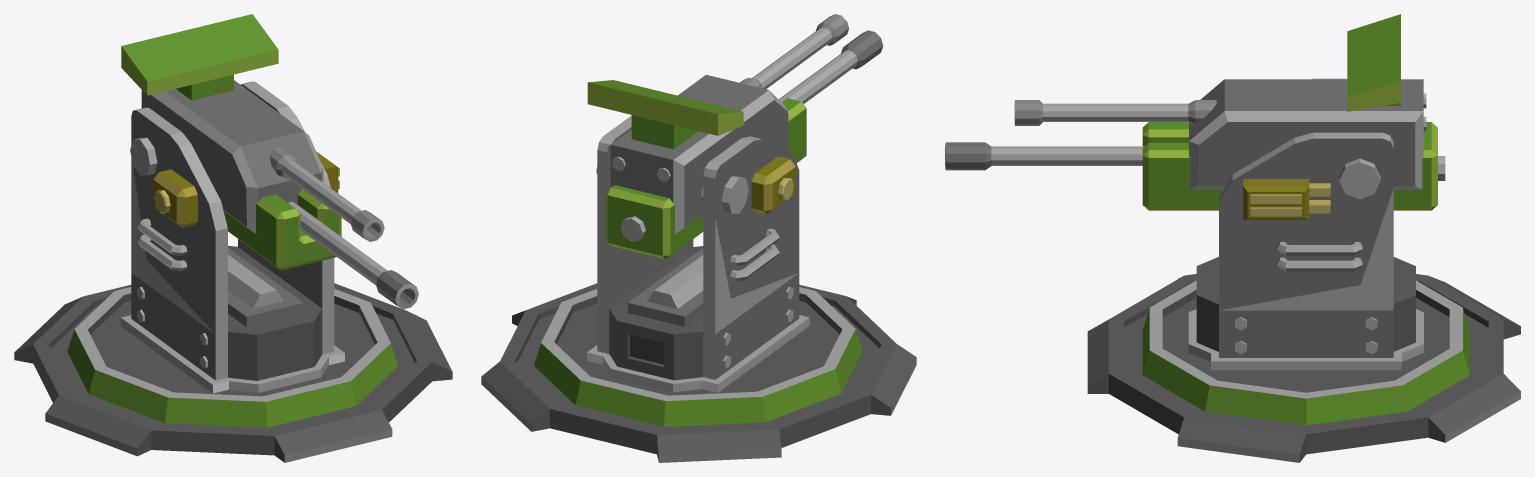
File: tower_machinegun_green_2.fbx
The picture shows the model from 3 angles, left to right: view 1: azimuth 30°, elevation 25°; view 2: azimuth 150°, elevation 25°; view 3: azimuth 270°, elevation 25°; orthographic projection. The views are drawn at different scales.
Parts seen in each view (by area): view 1: top_machinegun_green_2, tower_machinegun_green_2; view 2: top_machinegun_green_2, tower_machinegun_green_2; view 3: top_machinegun_green_2, tower_machinegun_green_2.
Boxes of the visible parts, bbox=[...] form: top_machinegun_green_2: bbox=[67, 14, 418, 427]; tower_machinegun_green_2: bbox=[14, 283, 452, 462]; top_machinegun_green_2: bbox=[534, 14, 883, 426]; tower_machinegun_green_2: bbox=[481, 283, 916, 462]; top_machinegun_green_2: bbox=[945, 14, 1469, 425]; tower_machinegun_green_2: bbox=[1087, 274, 1520, 462].
Size of the model in its own units: 172 by 133 by 217.
